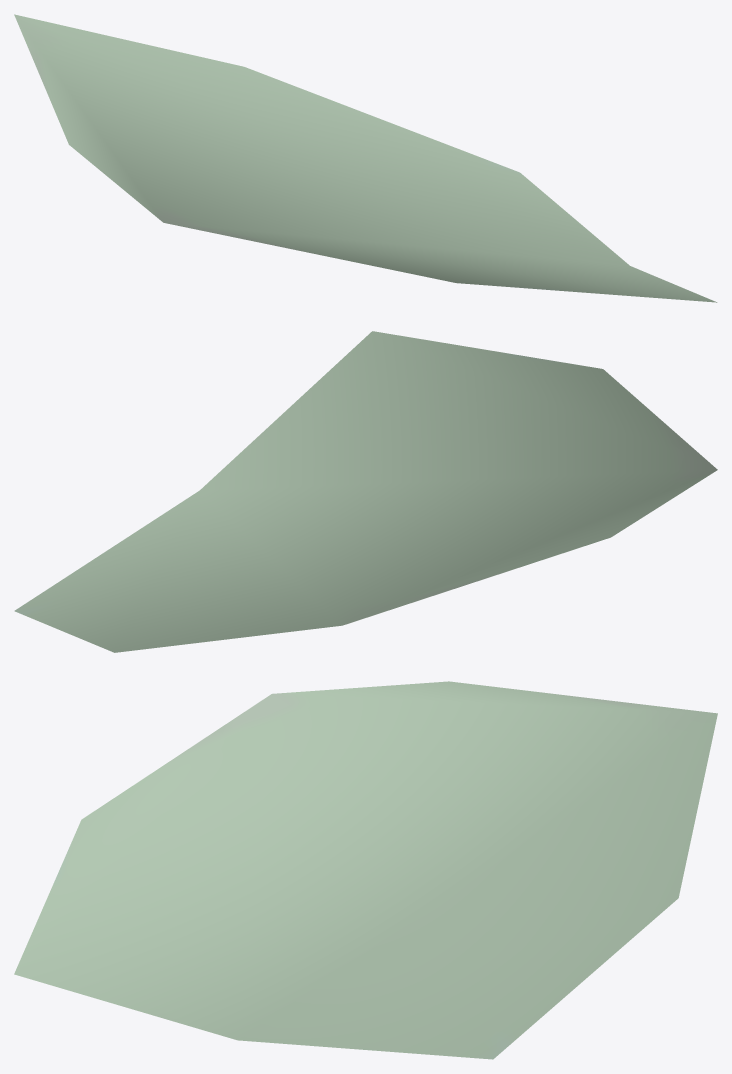
File: TROLLHOLE02_HOLECAP99.fbx
3 renders of one model, top to bottom at view 1: azimuth 30°, elevation 25°; view 2: azimuth 150°, elevation 25°; view 3: azimuth 270°, elevation 25°, orthographic. The views are drawn at different scales.
Visible parts, largest first — view 1: TROLLHOLE02_HOLECAP99; view 2: TROLLHOLE02_HOLECAP99; view 3: TROLLHOLE02_HOLECAP99.
Boxes of the visible parts, <box> form: TROLLHOLE02_HOLECAP99: <box>14,14,717,302</box>; TROLLHOLE02_HOLECAP99: <box>14,331,717,652</box>; TROLLHOLE02_HOLECAP99: <box>14,681,717,1059</box>.
Bounding box in the file's own units: 16594 × 5624 × 22095.
Materials: 1 (1 with a texture image).
